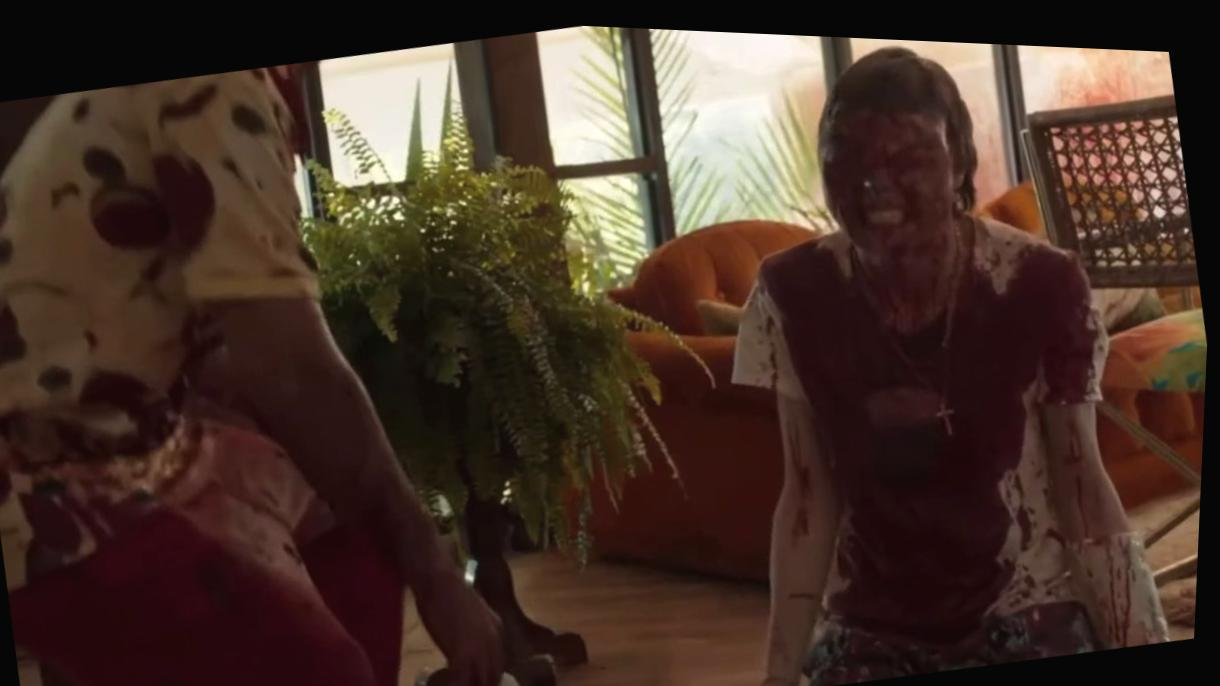Fire: (744, 40, 1176, 686)
